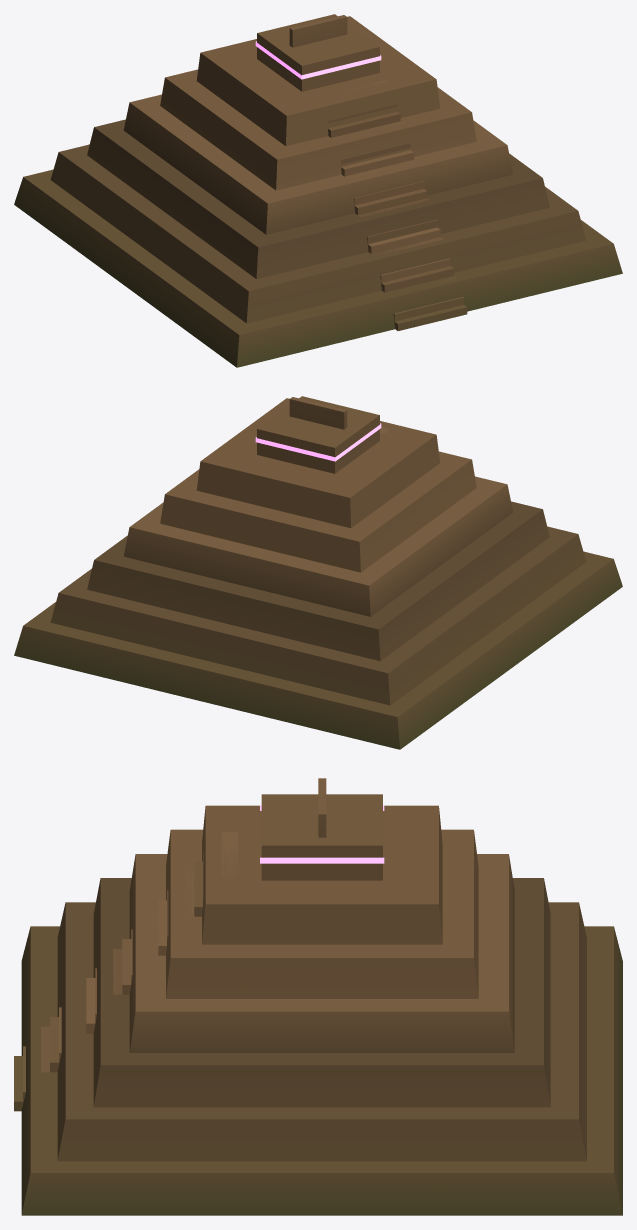
The model's file is props.glb.
3 views of the same model, one above another, from view 1: azimuth 30°, elevation 25°; view 2: azimuth 150°, elevation 25°; view 3: azimuth 270°, elevation 25° (orthographic). The views are drawn at different scales.
Visible parts, largest first — view 1: temple_0; view 2: temple_0; view 3: temple_0.
Boxes of the visible parts, x1,y1,x2,y2 form: temple_0: (14,14,622,367); temple_0: (14,396,622,749); temple_0: (14,778,622,1215).
Size of the model in its own units: 120 by 64.34 by 122.
